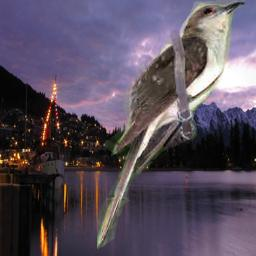Cuckoo: (97, 0, 245, 249)
